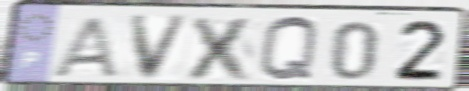0: (329, 19, 384, 81)
2: (393, 18, 451, 84)
A: (48, 15, 124, 80)
Q: (256, 14, 321, 85)
V: (127, 13, 194, 83)
X: (182, 15, 261, 83)
